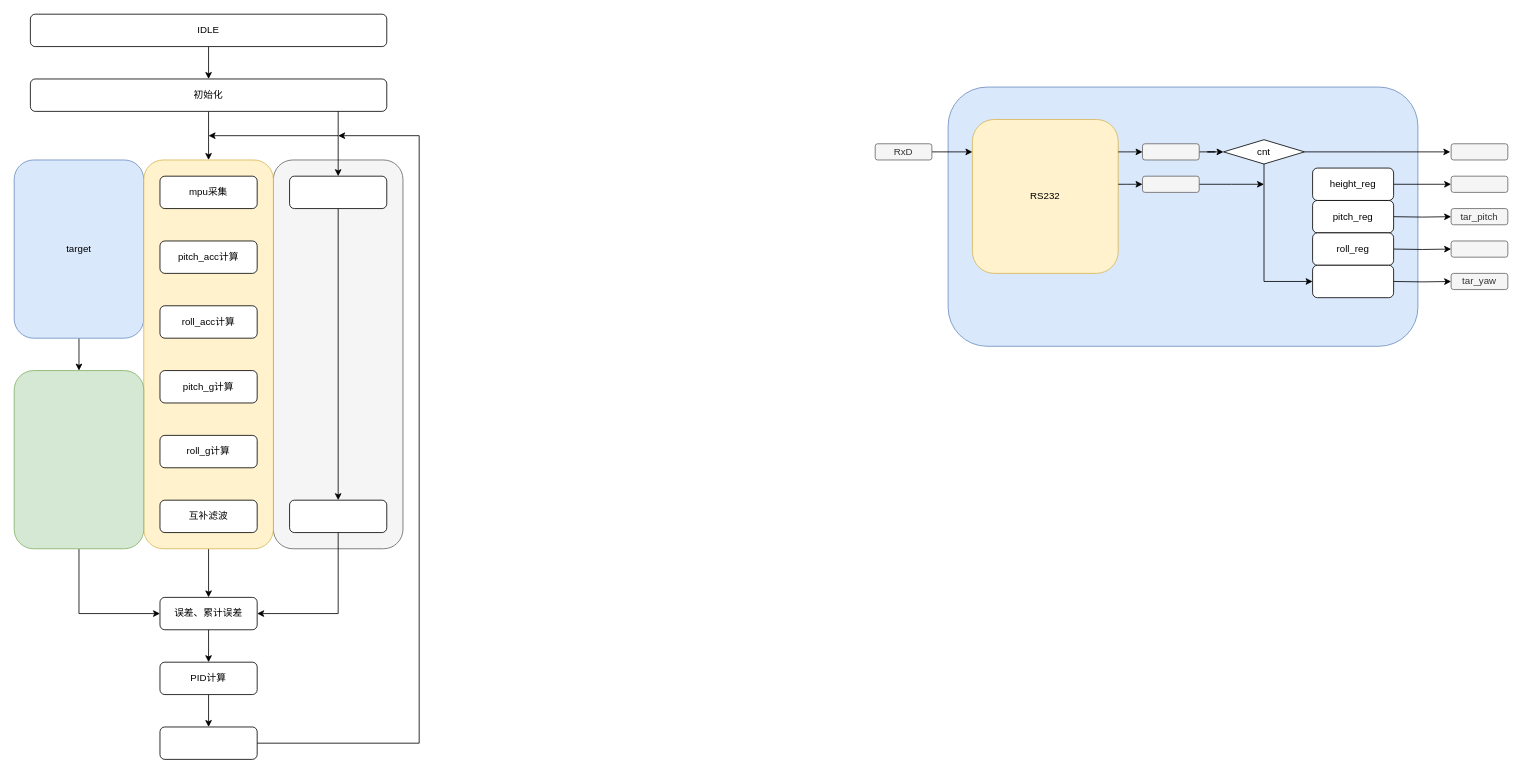
Image size: 1522x774. Some labels were removed from this diagram. The box of each missing label's shape, as (x1, y1, x2, y2) in pixels:
fifo: (13, 370, 144, 549)
PWM输出: (159, 726, 257, 759)
RxD_data: (1142, 175, 1199, 192)
RxD_rdy: (1142, 143, 1199, 160)
tar_height: (1450, 175, 1508, 192)
tar_renew: (1450, 143, 1508, 160)
tar_roll: (1450, 240, 1508, 257)
yaw_reg: (1312, 264, 1394, 298)
高度计算: (289, 499, 387, 533)
高度采集: (289, 175, 387, 209)
